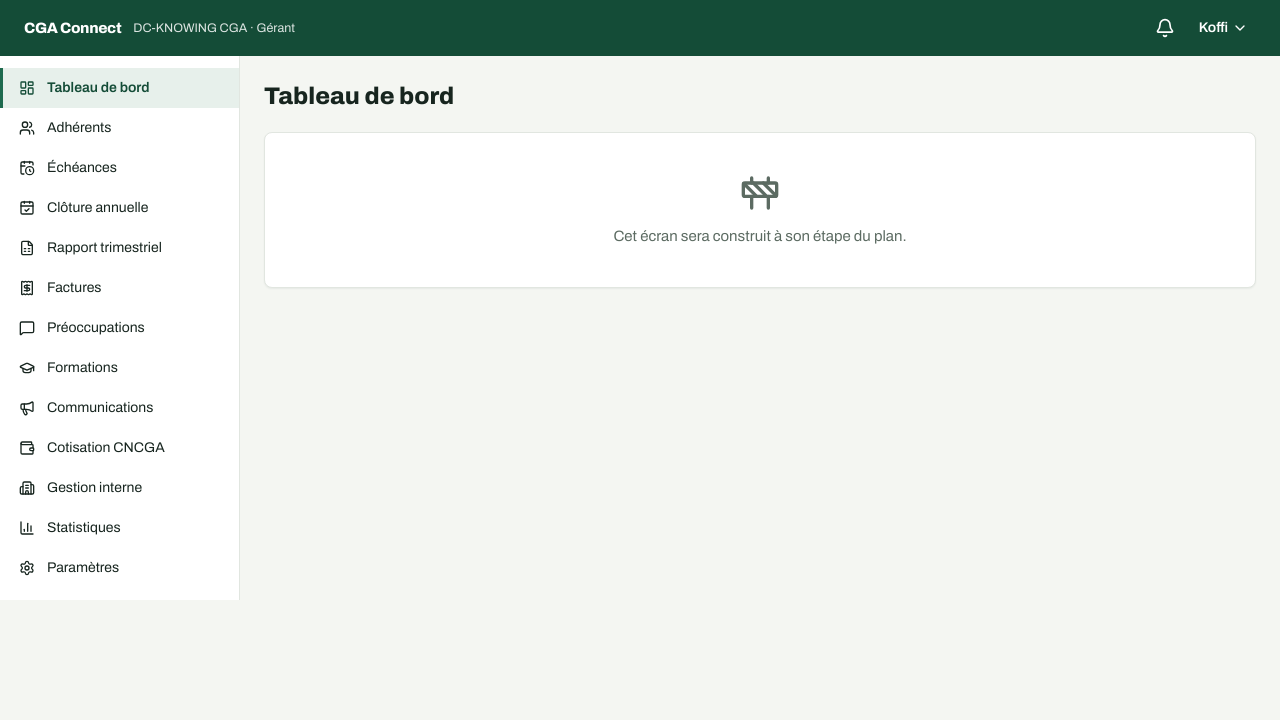
Test case: /cga/adherents · liste des adhérents (F-ADH-01) › le gérant ouvre la liste par le menu : dossiers actifs du portefeuille CGA, n°, ancien n°, badges
The image size is (1280, 720).
Click the link "Adhérents".
click(65, 128)  # box [19, 120, 111, 136]
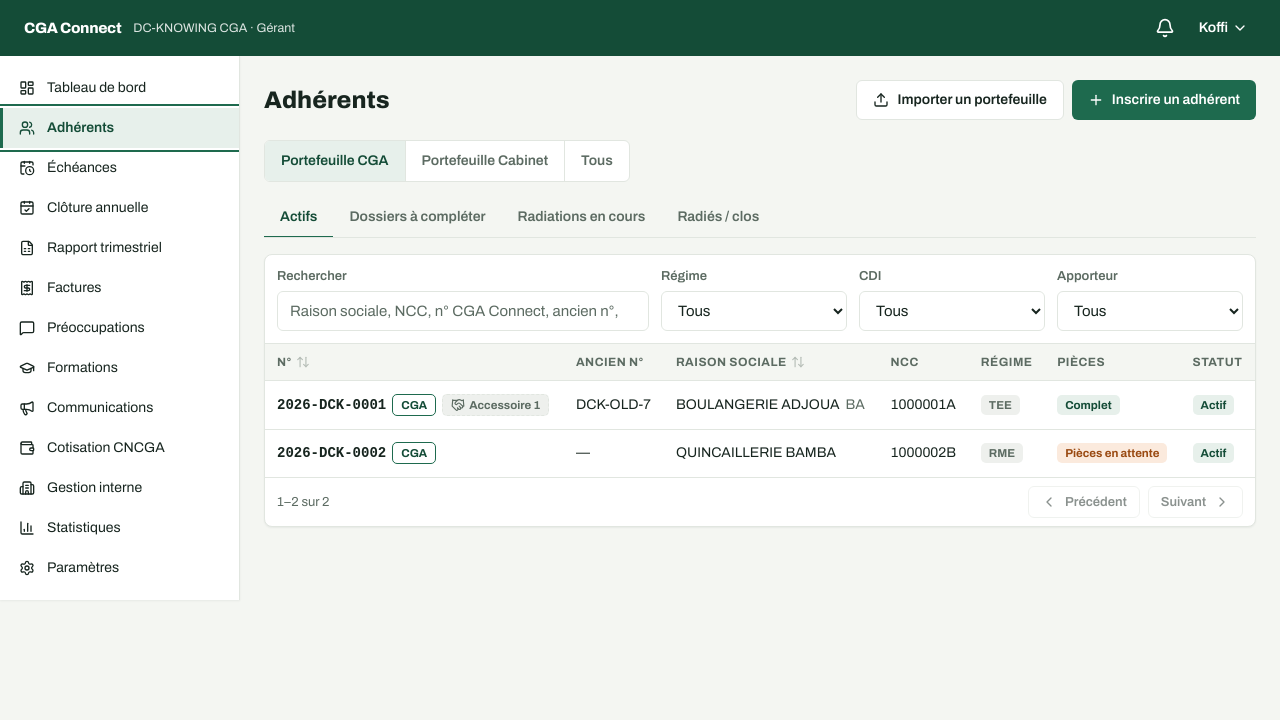
Check: the heading "Adhérents" is shown, box [264, 84, 390, 116]
Check: the table named "Adhérents du centre" is shown, box [265, 344, 1255, 477]
Check: the text "2026-DCK-0001" is shown, box [277, 395, 386, 415]
